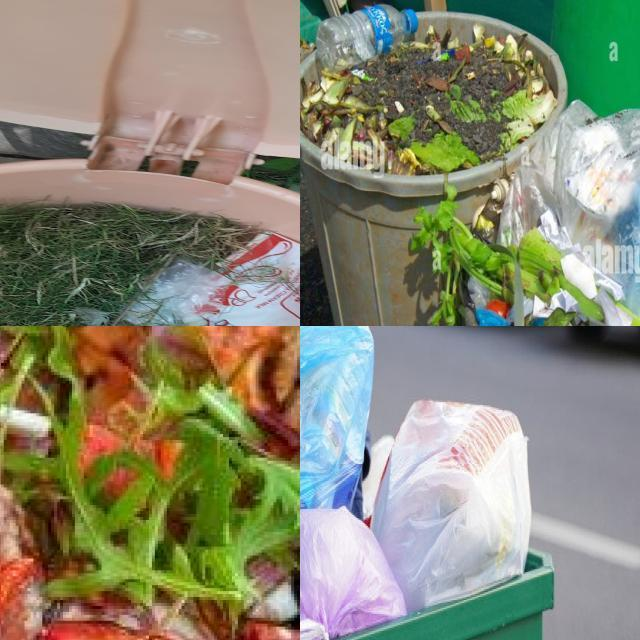Garbage: (300, 5, 640, 326), (0, 326, 300, 640), (300, 326, 531, 640), (0, 204, 300, 326)
Plastic_Bag: (371, 399, 531, 612), (501, 100, 640, 317), (300, 507, 407, 640), (208, 232, 300, 326), (124, 261, 231, 326), (477, 310, 509, 326)
Plastic_bottle: (317, 5, 418, 69)
